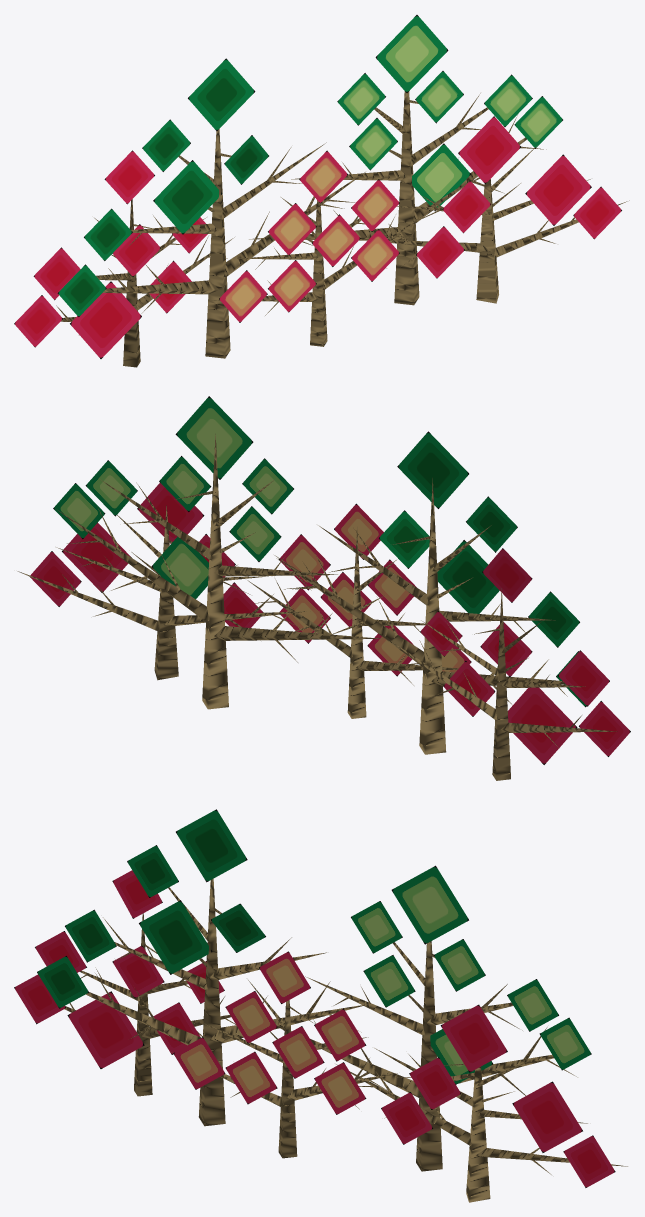
Rendered from Trees_Leaves_New_5.obj.
The picture shows the model from 3 angles, top to bottom: view 1: azimuth 30°, elevation 25°; view 2: azimuth 150°, elevation 25°; view 3: azimuth 330°, elevation 25°; orthographic projection. The views are drawn at different scales.
Parts seen in each view (by area): view 1: polySurface2, polySurface3, polySurface4, pPlane186, polySurface1, pPlane198, pPlane191, pPlane185, pPlane215, pPlane214, pPlane211, pPlane52 (+24 smaller); view 2: polySurface3, polySurface2, polySurface4, polySurface1, pPlane186, pPlane185, pPlane198, pPlane191, pPlane215, pPlane211, pPyramid24, pPlane214 (+24 smaller); view 3: polySurface2, polySurface3, polySurface4, pPlane186, pPlane198, polySurface1, pPlane191, pPlane185, pPlane215, pPlane214, pPlane188, pPlane216 (+24 smaller).
Part boxes in pixels (<box>): polySurface2: <box>102,129,365,358</box>; polySurface3: <box>249,91,546,305</box>; polySurface4: <box>360,145,629,303</box>; pPlane186: <box>375,15,448,92</box>; polySurface1: <box>210,197,421,346</box>; pPlane198: <box>70,281,141,358</box>; pPlane191: <box>153,160,221,234</box>; pPlane185: <box>188,58,255,131</box>; pPlane215: <box>525,154,591,225</box>; pPlane214: <box>458,116,520,183</box>; pPlane211: <box>412,143,470,211</box>; pPlane52: <box>104,150,154,204</box>; polySurface3: <box>58,434,383,709</box>; polySurface2: <box>274,478,565,754</box>; polySurface4: <box>17,505,310,680</box>; polySurface1: <box>247,527,458,718</box>; pPlane186: <box>175,396,253,479</box>; pPlane185: <box>397,431,468,508</box>; pPlane198: <box>508,682,577,764</box>; pPlane191: <box>437,540,499,613</box>; pPlane215: <box>62,522,131,592</box>; pPlane211: <box>151,537,208,599</box>; pPyramid24: <box>492,588,510,780</box>; pPlane214: <box>137,483,204,543</box>; polySurface2: <box>86,878,370,1126</box>; polySurface3: <box>280,941,577,1171</box>; polySurface4: <box>336,1048,627,1202</box>; pPlane186: <box>391,865,468,944</box>; pPlane198: <box>67,991,144,1068</box>; polySurface1: <box>171,980,397,1158</box>; pPlane191: <box>139,900,212,974</box>; pPlane185: <box>176,809,247,882</box>; pPlane215: <box>512,1081,582,1152</box>; pPlane214: <box>440,1004,507,1072</box>; pPlane188: <box>65,909,116,962</box>; pPlane216: <box>563,1135,615,1187</box>.
Size of the model in its own units: 493 by 233 by 51.07.
5 materials, 5 textured.
